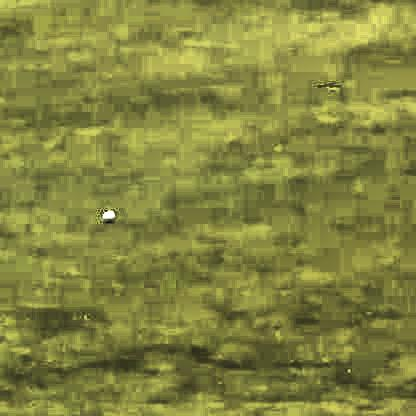golfball: (98, 207, 114, 223)
